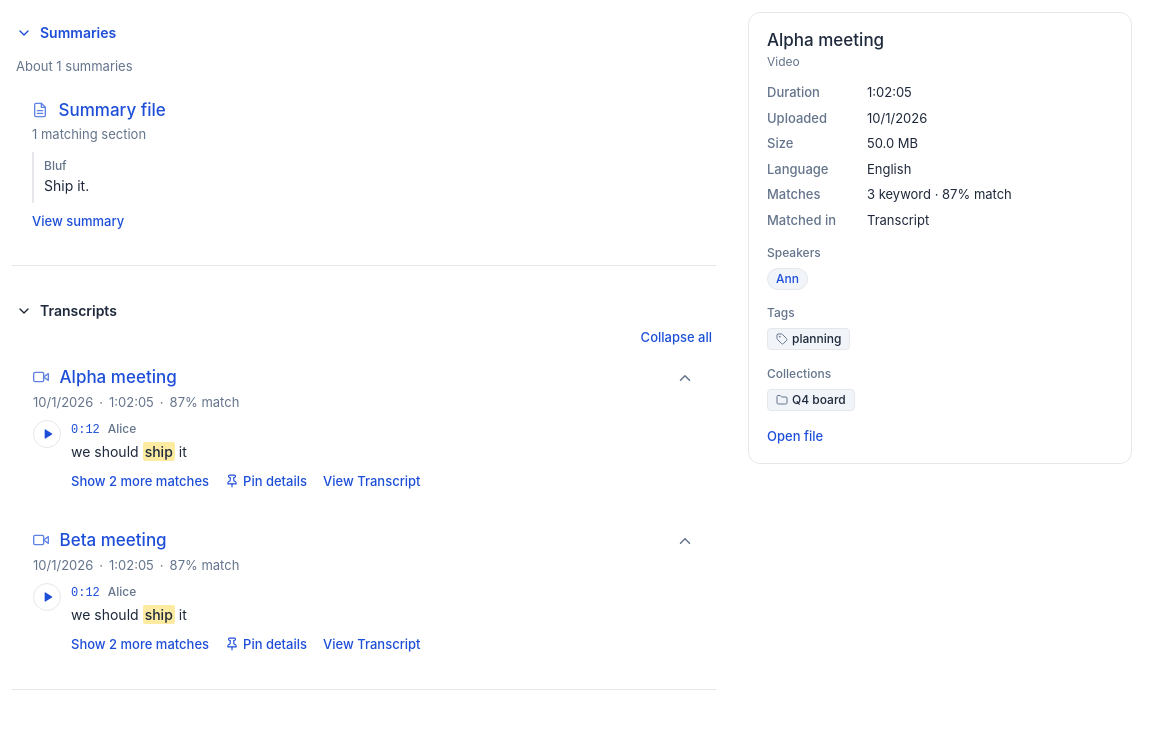
Test case: SearchResultsBody — pinning is visible › the panel's Unpin releases the pin: the card unpresses and hover drives the panel again
The width and height of the screenshot is (1164, 732).
Click the 1st button "Pin details" at (266, 482), box x1=217 y1=472 x2=315 y2=492
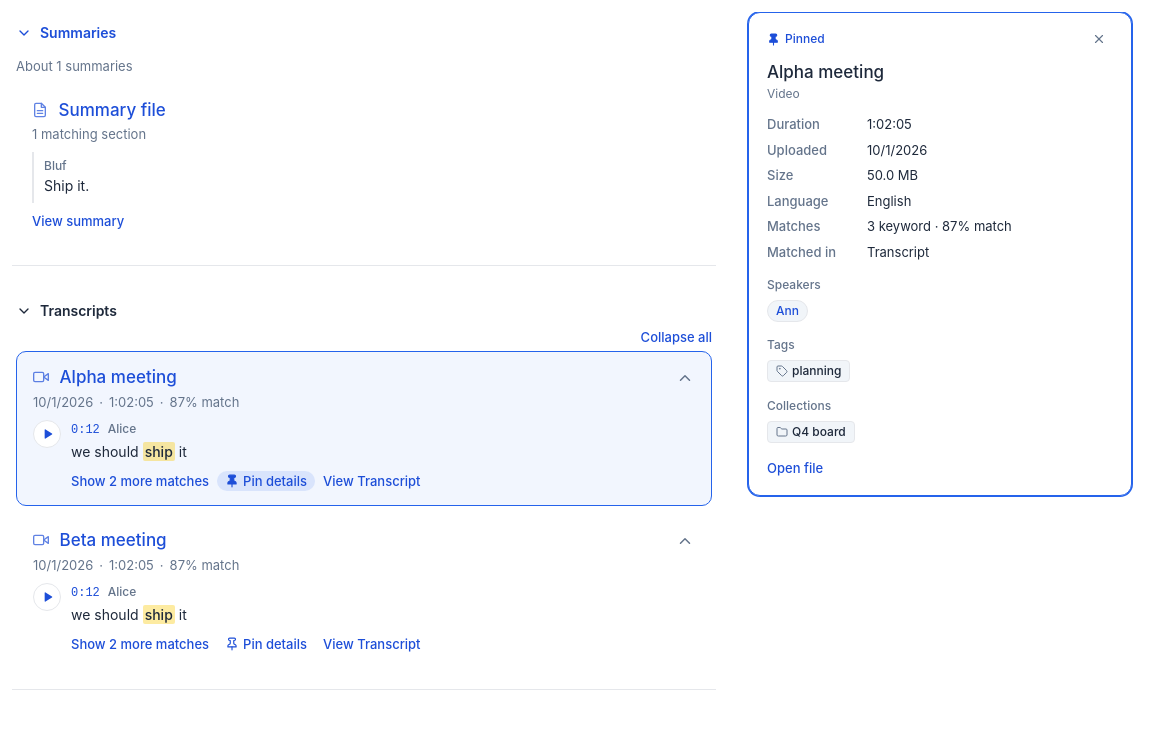
Click the button named "Unpin details" at (1099, 39), box x1=1085 y1=25 x2=1113 y2=53
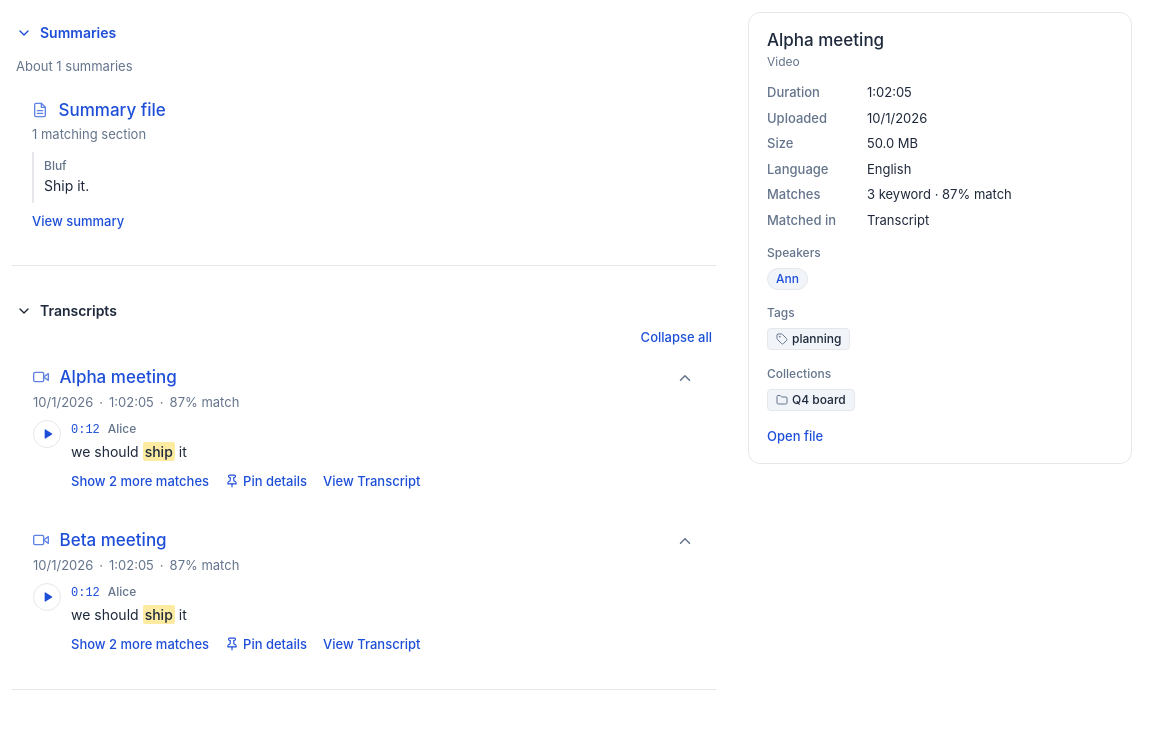
Expected: the text "Pinned" is gone
Hover over the element with class "result-card" that starts with "Beta meeting" at (63, 565), box x1=16 y1=514 x2=712 y2=670
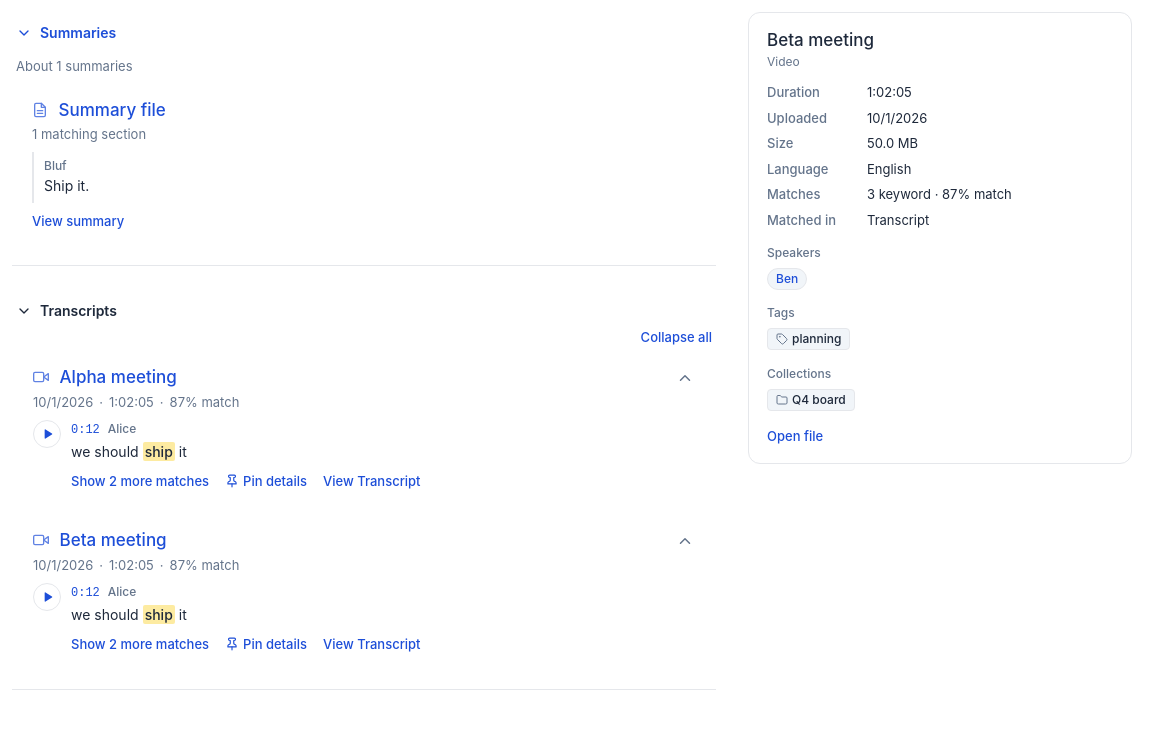
Expected: the list item "Ben" is shown, x1=767 y1=268 x2=807 y2=290
